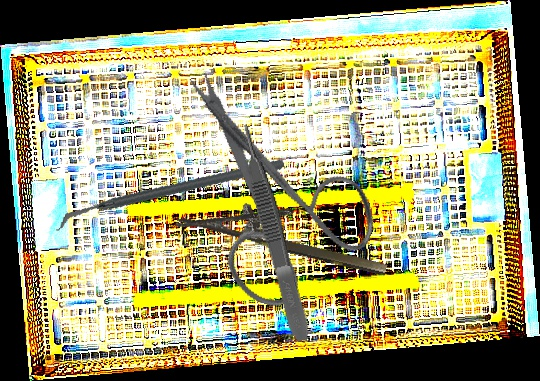Chopper: (55, 121, 286, 268)
Iris Scissors: (126, 66, 404, 330)
Needle Holder: (175, 183, 395, 278)
Tissue Forceps: (236, 121, 313, 344)
